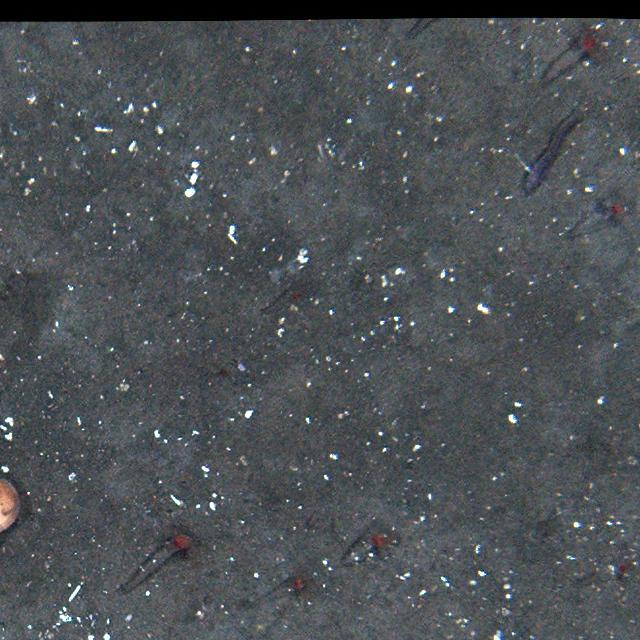roundfish: (519, 112, 585, 204)
